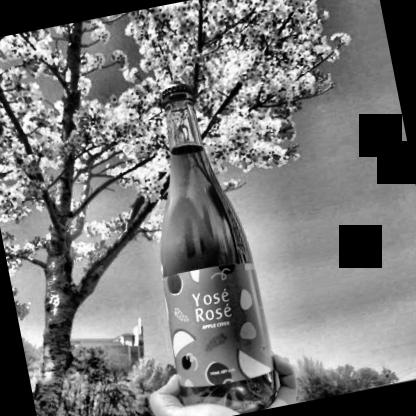yoserose: (161, 259, 276, 393)
